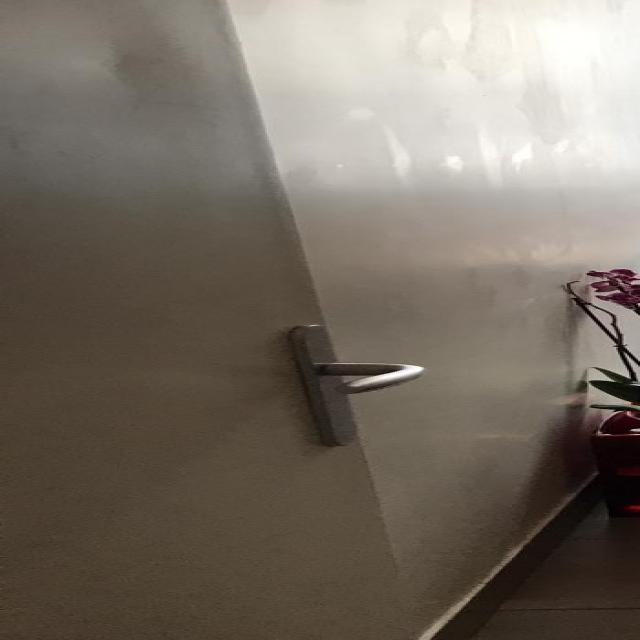door-handle: (316, 362, 425, 394)
